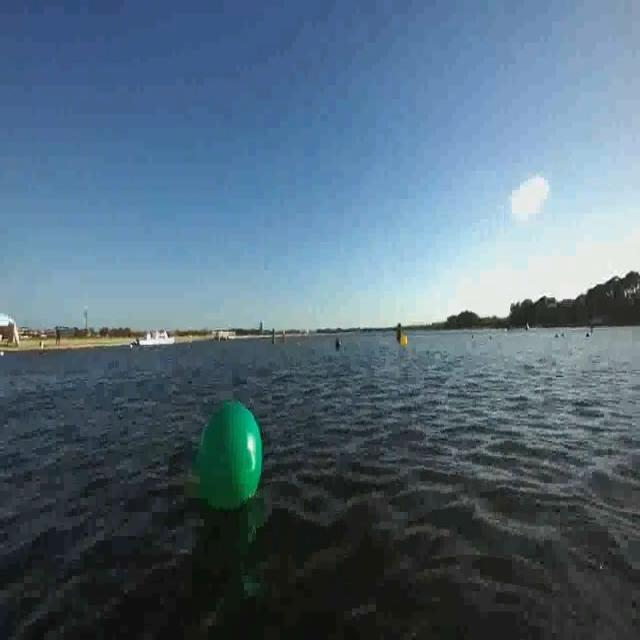blue-buoy: (335, 332, 341, 353)
green-buoy: (193, 395, 268, 516)
yellow-buoy: (400, 335, 408, 348)
